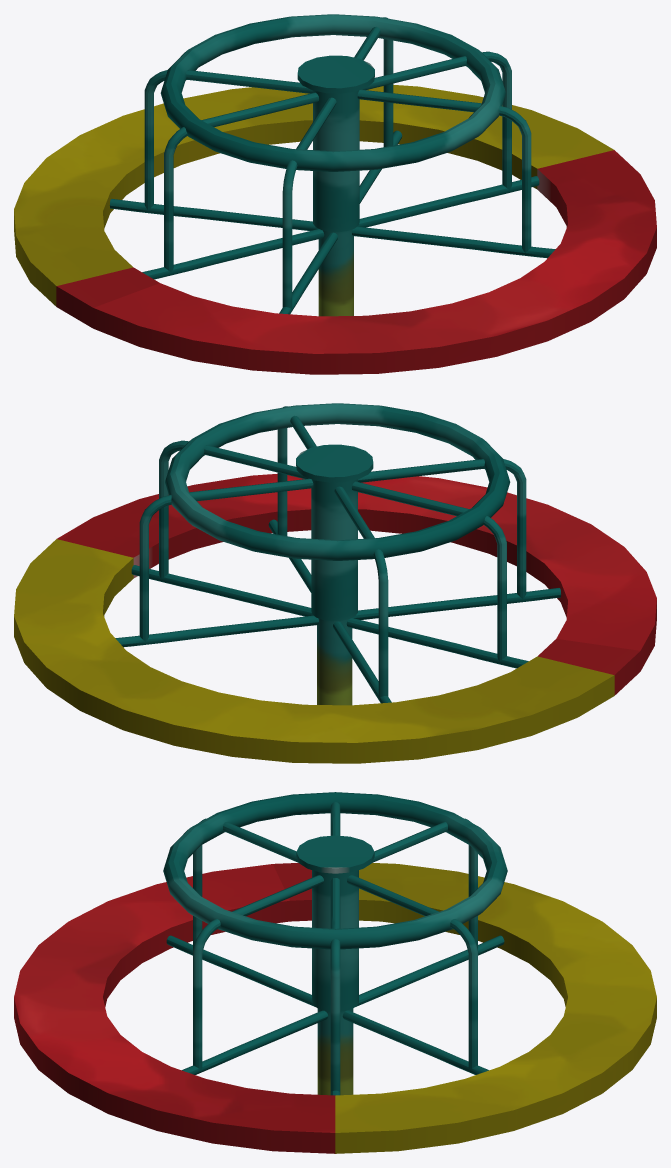
File: Merry-go-round.fbx
3 renders of one model, top to bottom at view 1: azimuth 30°, elevation 25°; view 2: azimuth 150°, elevation 25°; view 3: azimuth 270°, elevation 25°, orthographic.
Parts seen in each view (by area): view 1: Cylinder.004; view 2: Cylinder.004; view 3: Cylinder.004.
Part boxes in pixels (x1,y1,x2,y2): Cylinder.004: (14, 14, 656, 374); Cylinder.004: (14, 403, 656, 763); Cylinder.004: (14, 792, 656, 1153).
Bounding box in the file's own units: 261 × 117 × 261.
